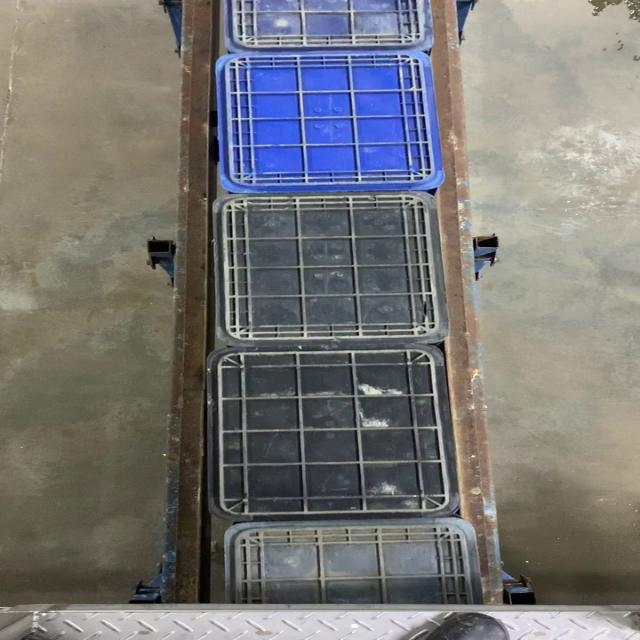Box: (202, 348, 466, 520), (211, 192, 453, 348), (212, 47, 450, 193)
